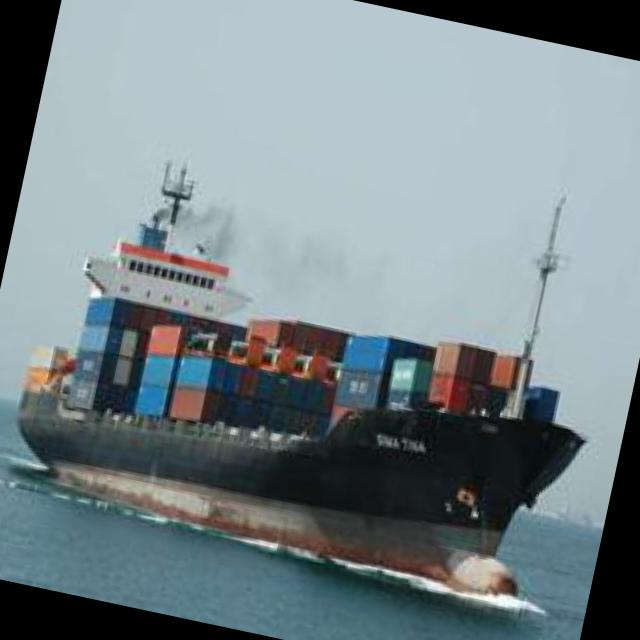boat: (0, 177, 597, 608)
